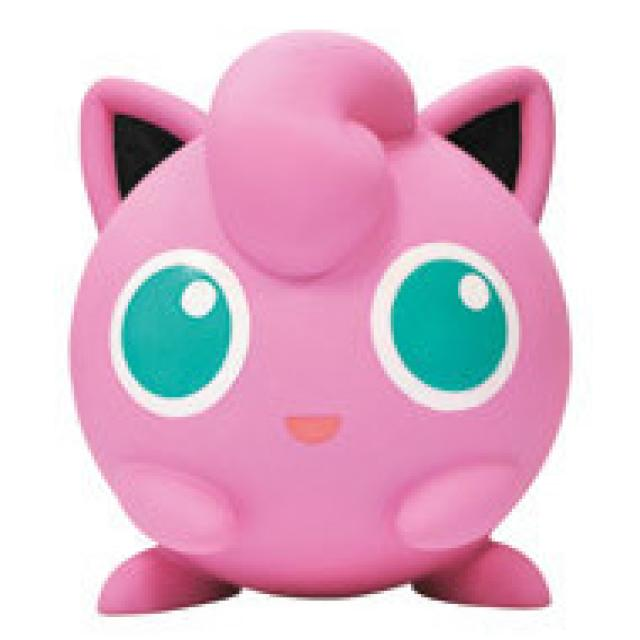Jigglypuff: (70, 34, 570, 618)
